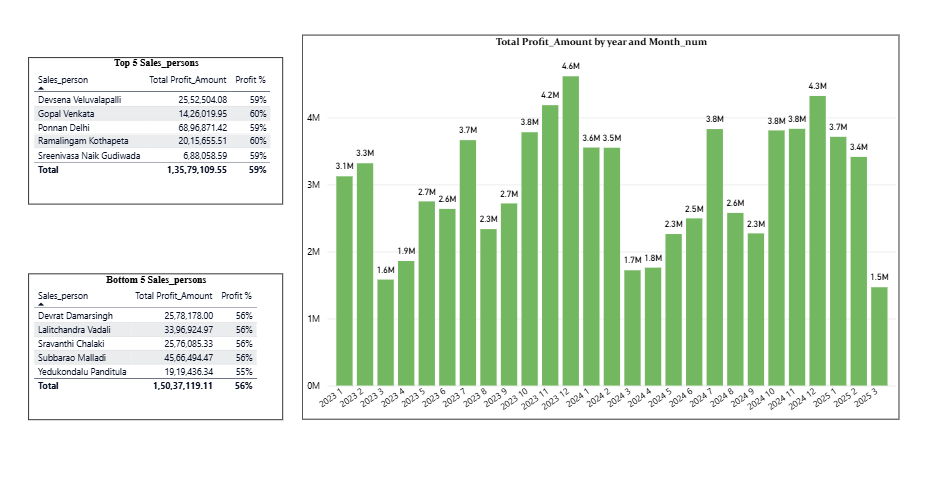

This screenshot's page, from the dashboard's own definition file:
{"tool":"powerbi","page":{"name":"Top/Bottom N","canvas":[1280,720],"ordinal":4},"visuals":[{"type":"tableEx","fields":{"Values":["people.Sales_person","shipments.Total Profit_Amount","shipments.Profit %"]},"box":[50,101.4,401.4,178.6],"z":0},{"type":"clusteredColumnChart","fields":{"Y":["shipments.Total Profit_Amount"],"Category":["calendar.year","calendar.Month_num"]},"box":[524.3,101.4,724.3,467.1],"z":1000},{"type":"tableEx","fields":{"Values":["people.Sales_person","shipments.Total Profit_Amount","shipments.Profit %"]},"box":[64.3,335.7,387.1,178.6],"z":2000}]}

Visuals, with their boxes on the page's 1280x720 design canvas (x1, y1, x2, y2). These are canvas units, not pixel positions in the 933x481 screenshot, which may show the page scaled, cropped or inside an application window:
tableEx - people.Sales_person x shipments.Total Profit_Amount: box(50, 101, 451, 280)
clusteredColumnChart - shipments.Total Profit_Amount x calendar.year: box(524, 101, 1249, 568)
tableEx - people.Sales_person x shipments.Total Profit_Amount: box(64, 336, 451, 514)
